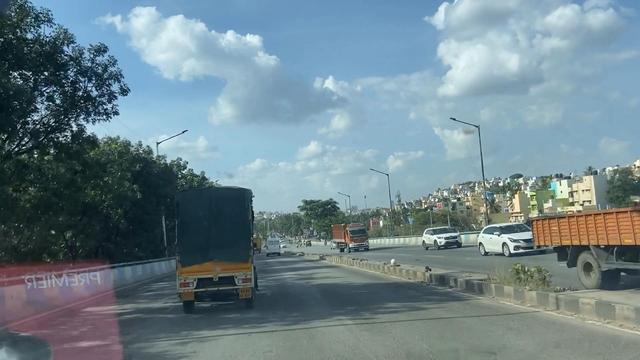HMV: (171, 185, 258, 311)
